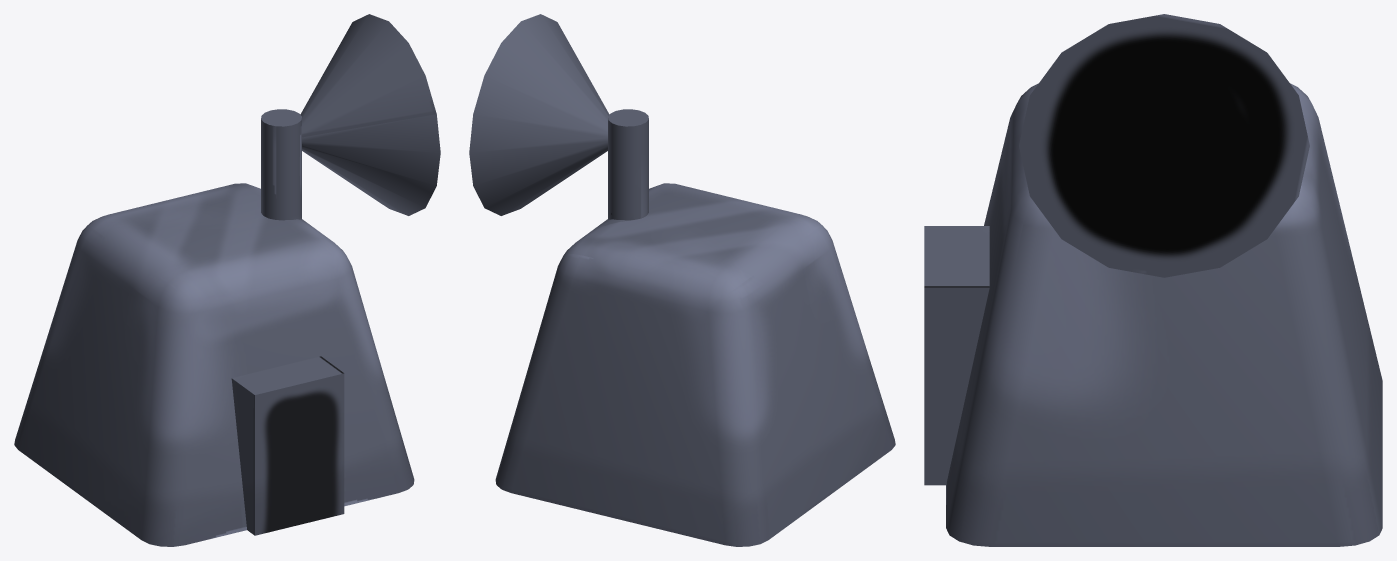
File: radiostation.fbx
3 renders of one model, left to right at view 1: azimuth 30°, elevation 25°; view 2: azimuth 150°, elevation 25°; view 3: azimuth 270°, elevation 25°, orthographic. The views are drawn at different scales.
Parts seen in each view (by area): view 1: Cube; view 2: Cube; view 3: Cube.
Boxes of the visible parts, x1,y1,x2,y2 form: Cube: (14, 14, 440, 546); Cube: (469, 14, 895, 546); Cube: (924, 14, 1382, 546).
Bounding box in the file's own units: 690 × 850 × 630.
Materials: 1 (1 with a texture image).
